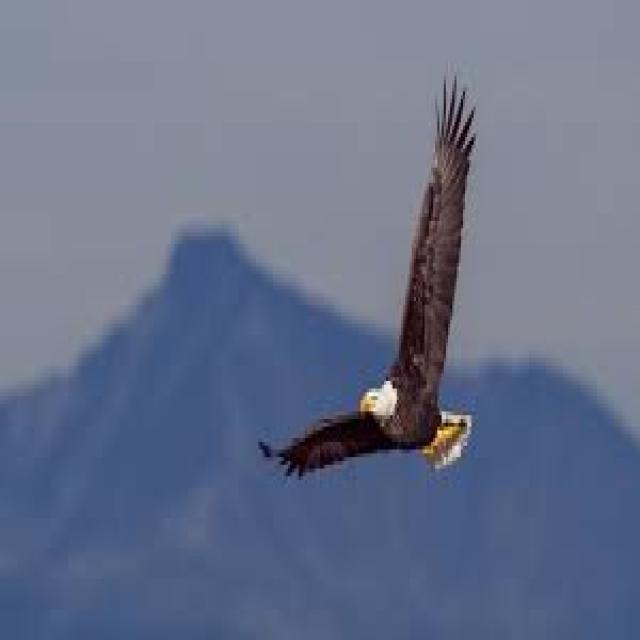Eagle: (266, 70, 480, 480)
